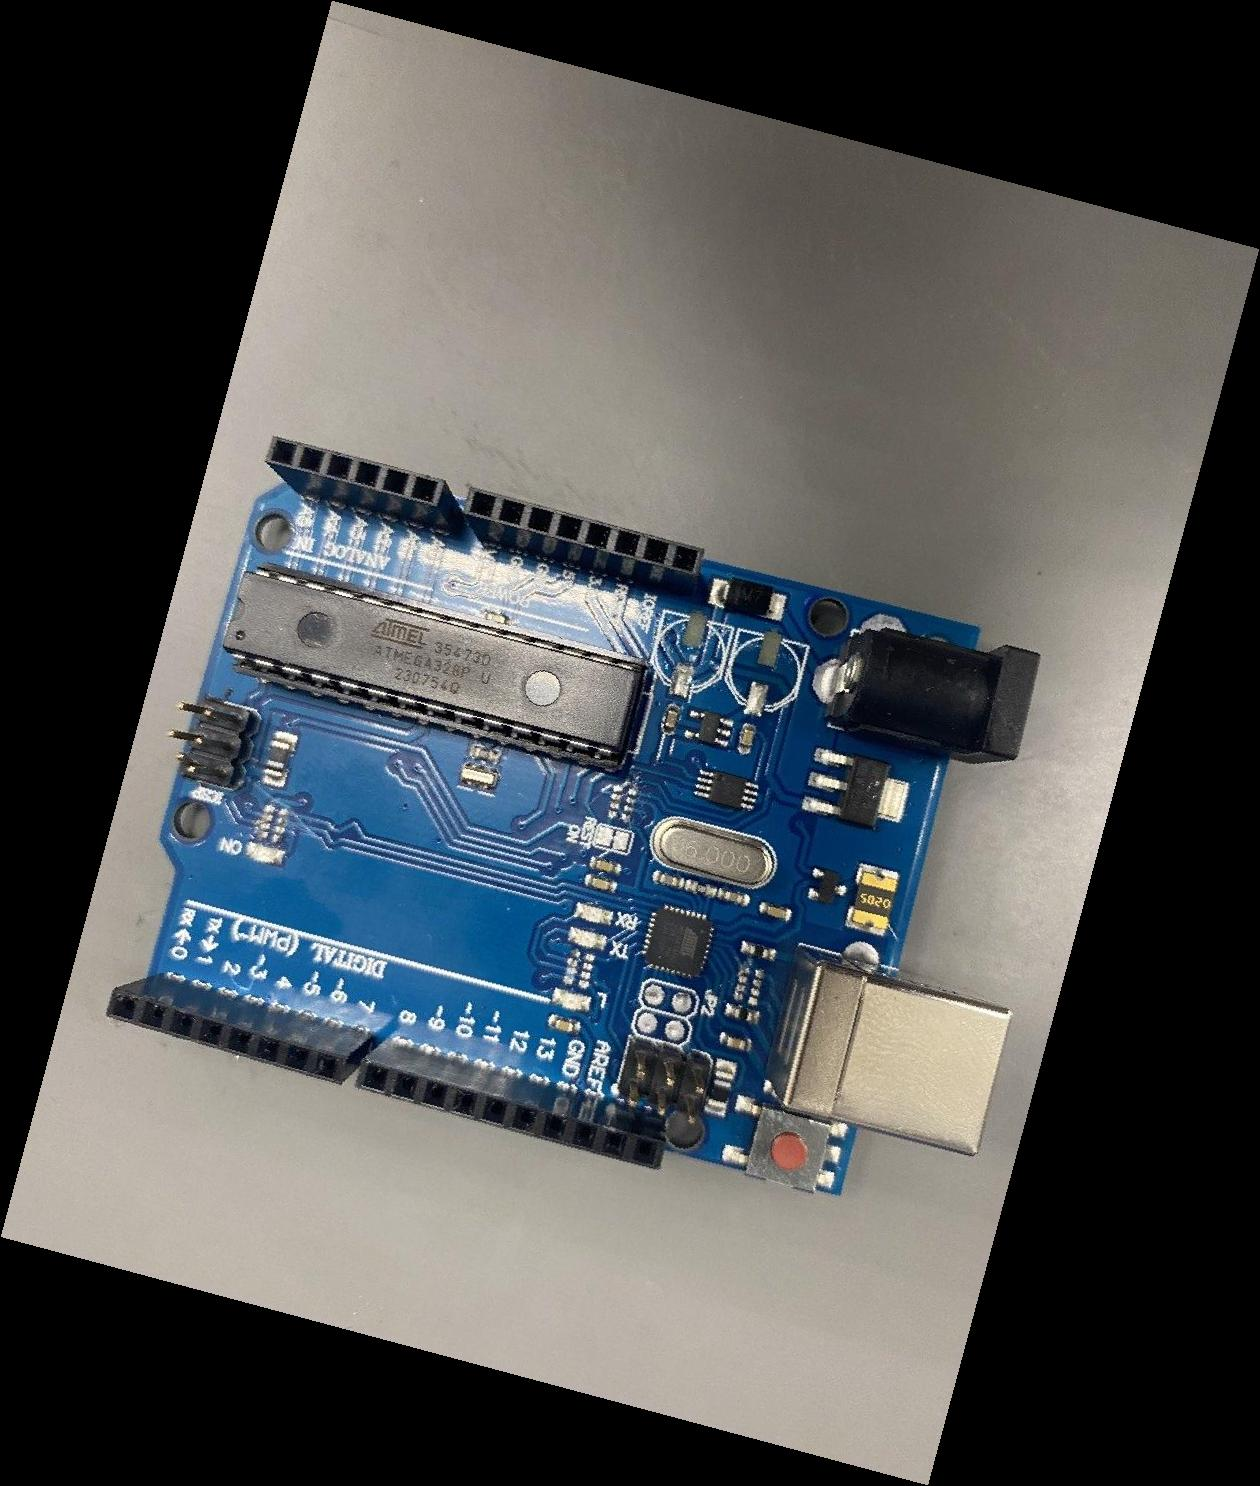ATmega328 chip: (222, 561, 649, 772)
Arduino board: (104, 435, 1040, 1195)
USB: (764, 945, 1010, 1156)
pins: (356, 1041, 666, 1170), (106, 975, 375, 1086), (464, 485, 706, 595), (265, 434, 461, 529)
